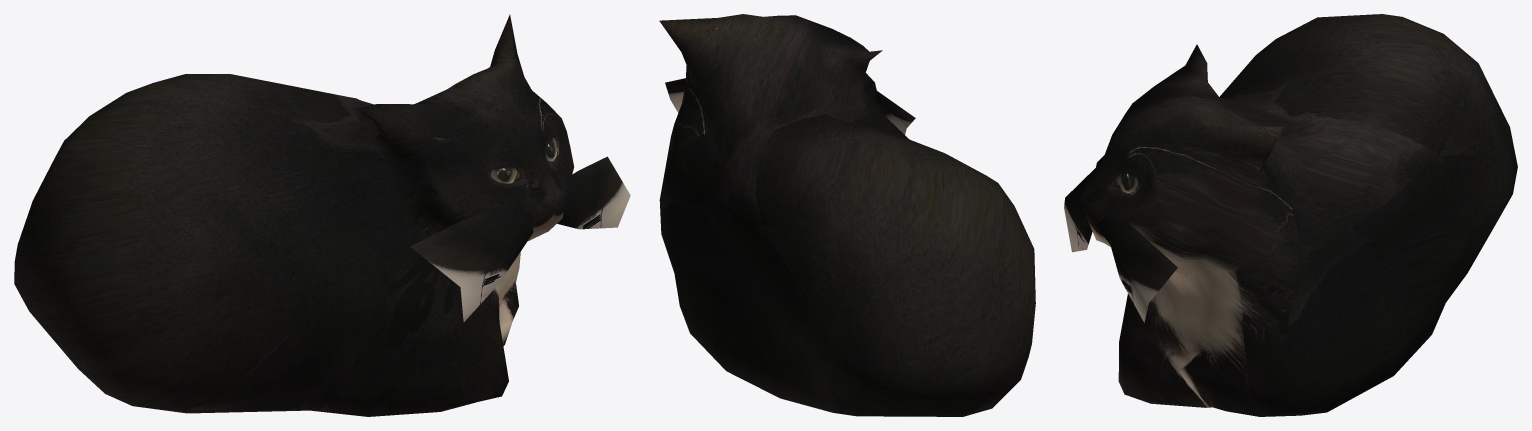
Rendered from SUPERDINGUS_TOO_MANY_TEXTURES.glb.
The picture shows the model from 3 angles, left to right: view 1: azimuth 30°, elevation 25°; view 2: azimuth 150°, elevation 25°; view 3: azimuth 270°, elevation 25°; orthographic projection. The views are drawn at different scales.
Parts seen in each view (by area): view 1: dingus; view 2: dingus; view 3: dingus.
Part boxes in pixels (x1,y1,x2,y2): dingus: (14, 14, 630, 416); dingus: (659, 14, 1035, 416); dingus: (1064, 14, 1517, 416).
Bounding box in the file's own units: 1.49 × 0.9607 × 1.2.
Materials: 1 (1 with a texture image).
